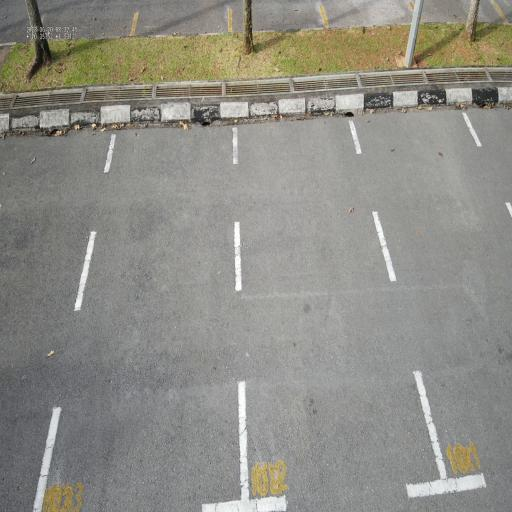Empty: (230, 116, 453, 512), (26, 123, 252, 512)
